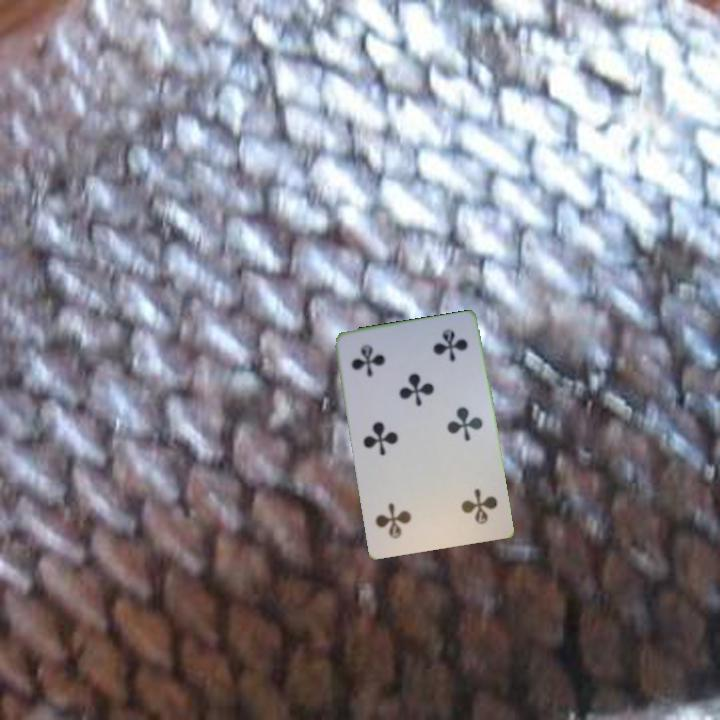c_7.png: (344, 330, 418, 397), (429, 472, 503, 539)
